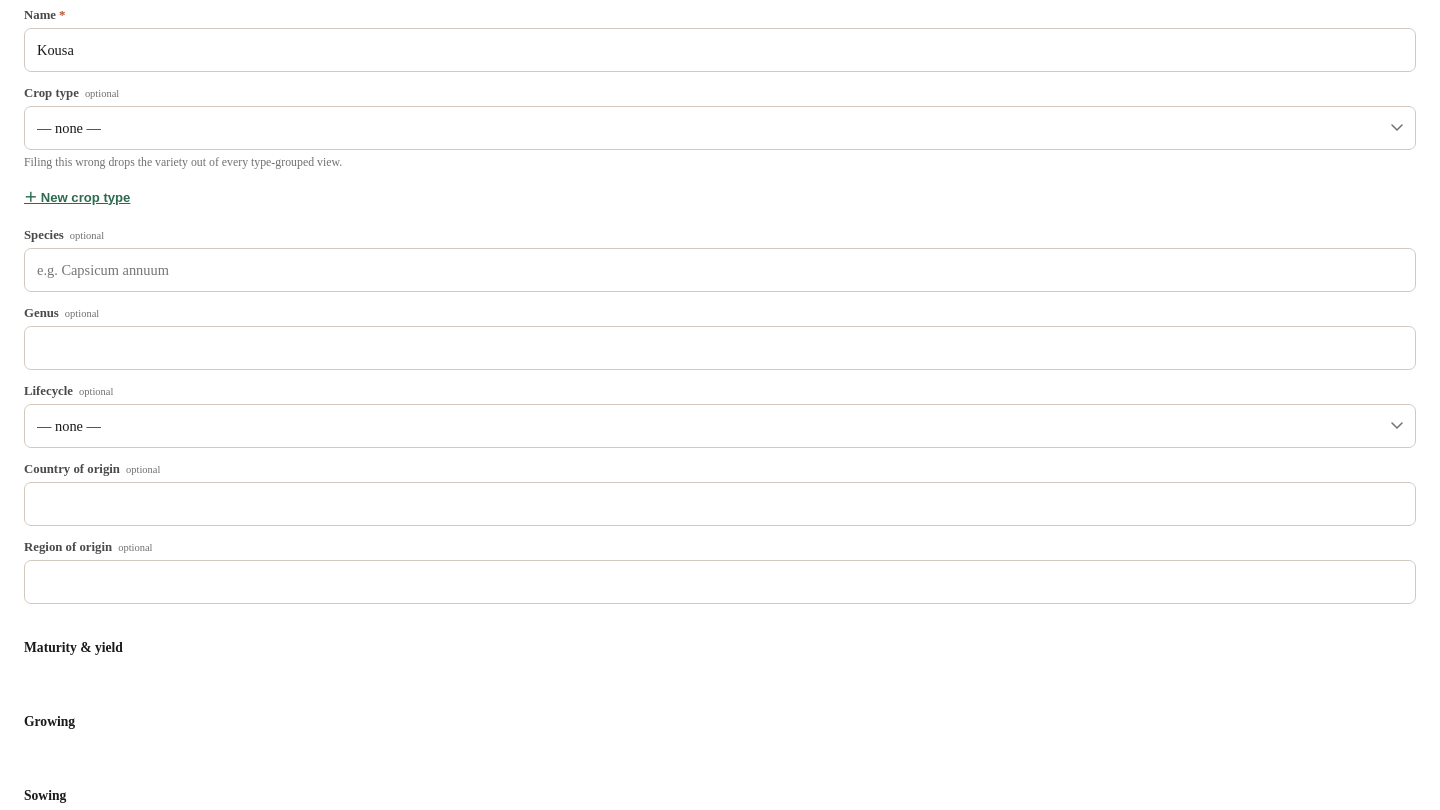
Test case: VarietyEditor — a retired crop type typed into the inline form › any other refusal still prints the server's own words
Step 1. Click the button "＋ New crop type" → (77, 192), box [24,170,130,214]
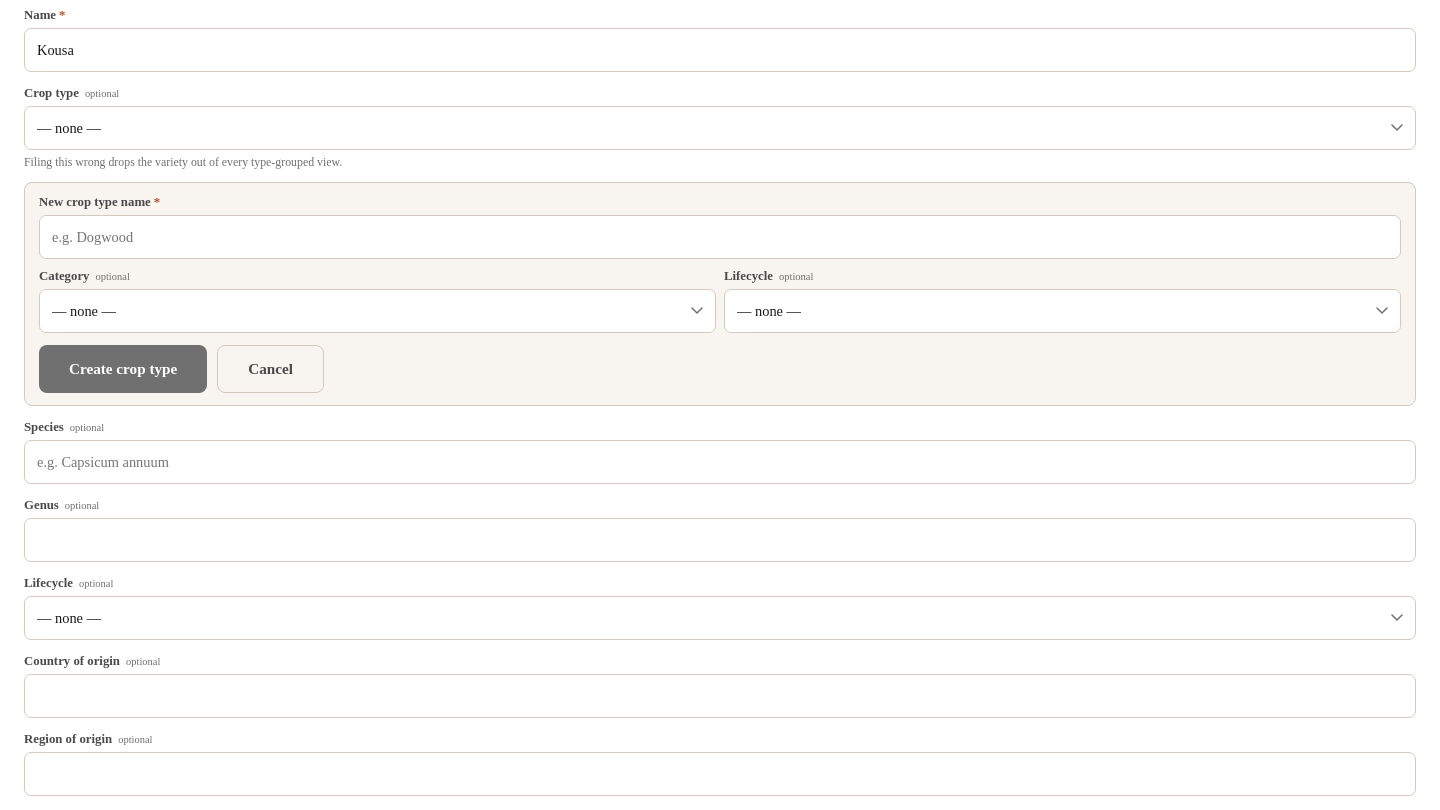
Step 2. Type "Pepper" into the field with placeholder "e.g. Dogwood" → (720, 237), box [39,215,1401,259]
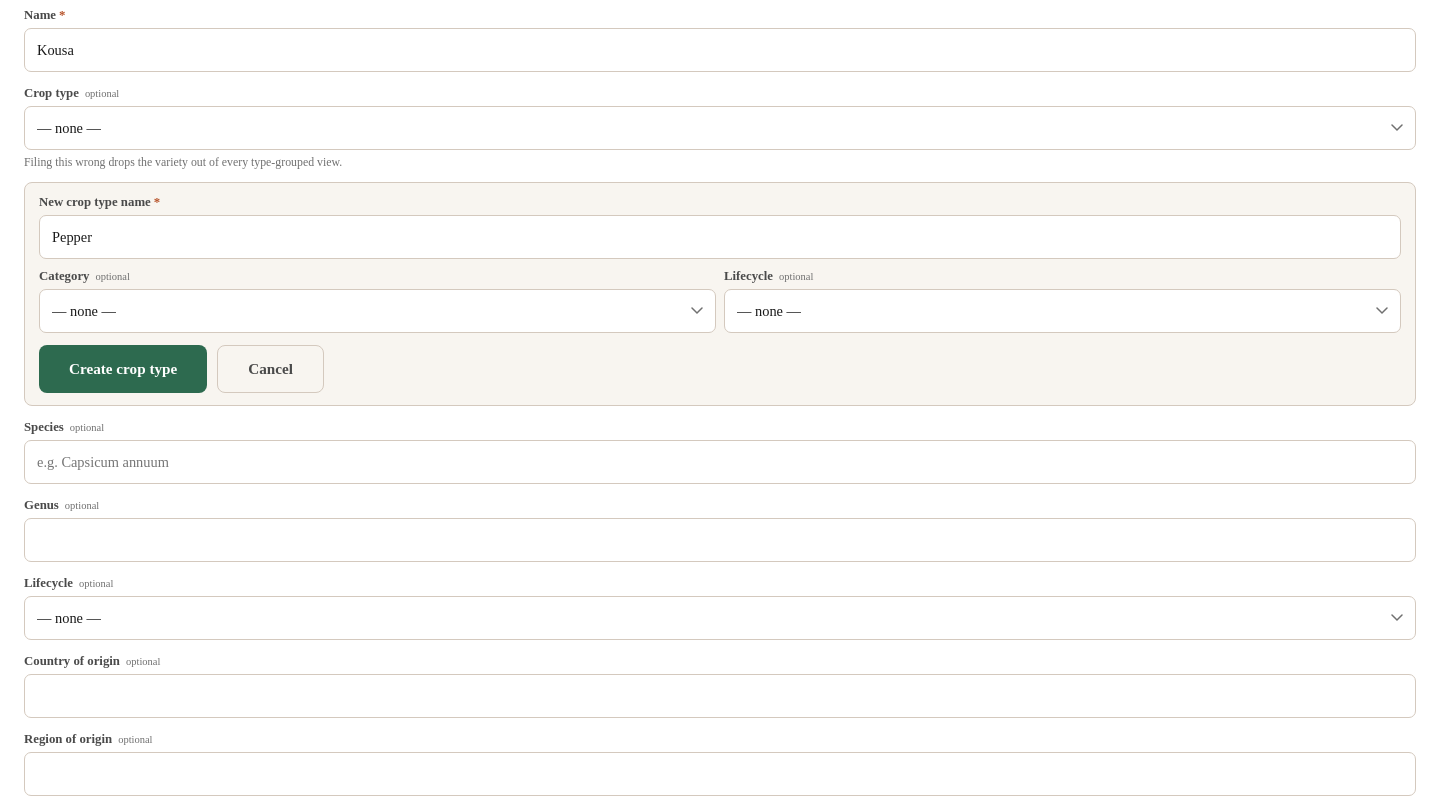
Step 3. Click the button "Create crop type" → (123, 369), box [39,345,207,393]
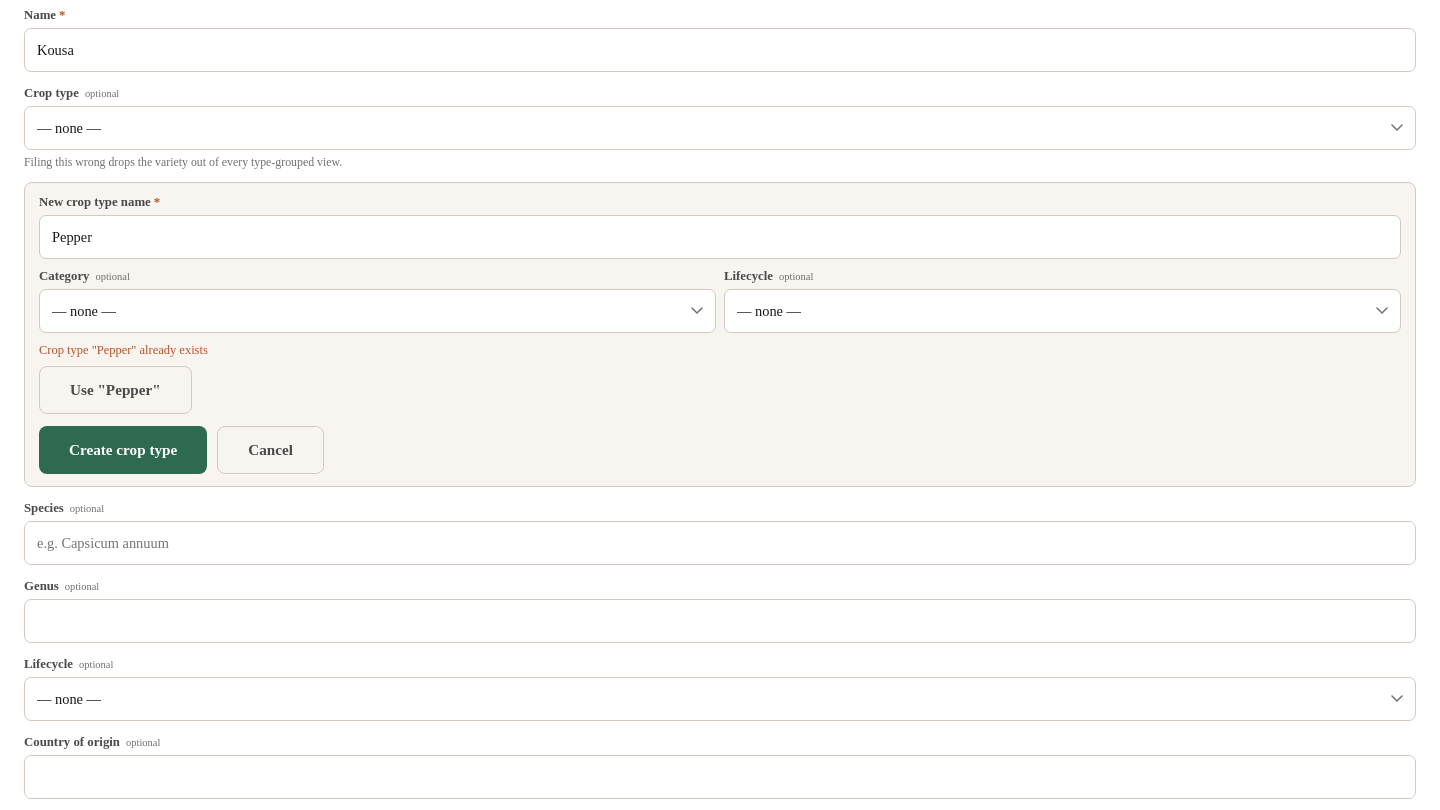
Check: the text "Crop type \"Pepper\" already exists" is shown, box [39,343,208,357]
